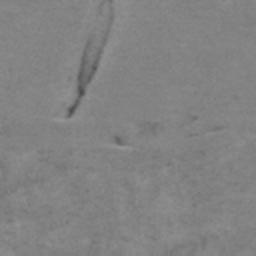Finishing roll printing: (64, 0, 116, 119), (113, 133, 124, 147)
